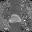people: (9, 14, 21, 23)
